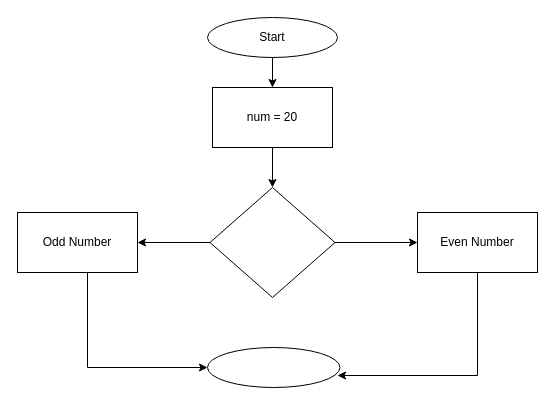
Some shapes in this 555 by 405 pixel diagram are drawn without their labels. Each missing label, with the centre of its shape:
"if num % 2 == 0" goes at pixel 272 242.
"Stop" goes at pixel 273 367.
